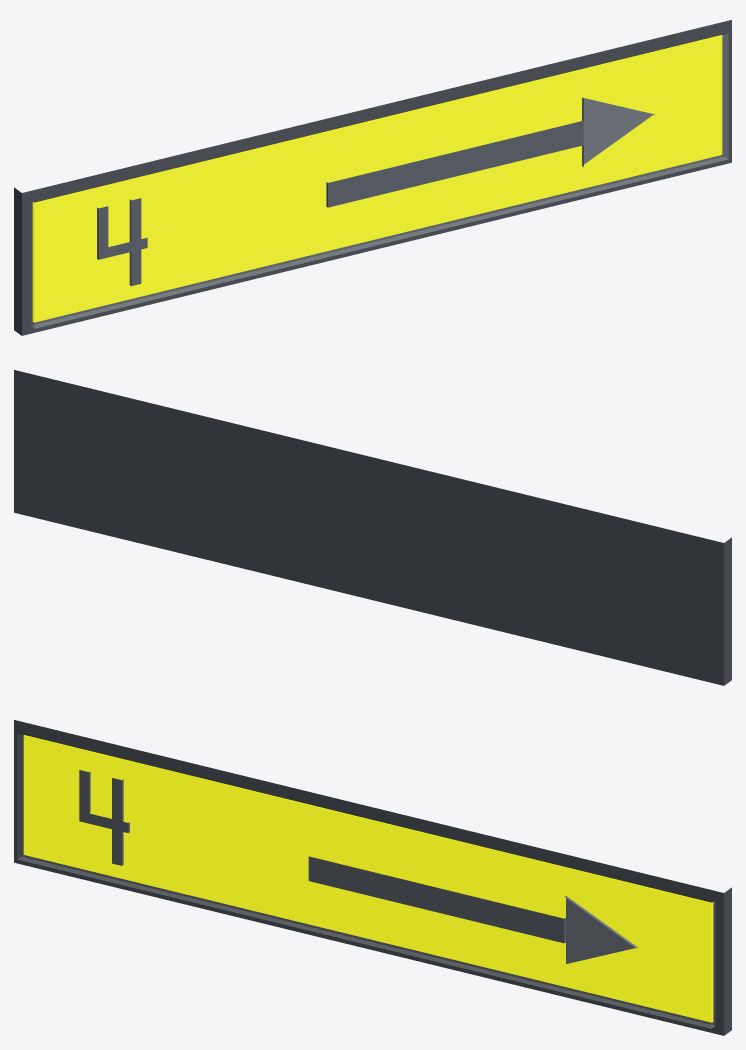
Rendered from ext_sector4_sign_02.glb.
The picture shows the model from 3 angles, top to bottom: view 1: azimuth 30°, elevation 25°; view 2: azimuth 150°, elevation 25°; view 3: azimuth 330°, elevation 25°; orthographic projection.
Parts seen in each view (by area): view 1: Glass_Face, Backlight, Tray, Chevrons, Glyph_4; view 2: Tray; view 3: Glass_Face, Backlight, Tray, Chevrons, Glyph_4.
Boxes of the visible parts, <box> form: Glass_Face: <box>31,34,728,328</box>; Backlight: <box>32,35,722,322</box>; Tray: <box>14,20,731,335</box>; Chevrons: <box>326,97,654,207</box>; Glyph_4: <box>97,198,147,285</box>; Tray: <box>14,370,731,685</box>; Glass_Face: <box>17,734,714,1028</box>; Backlight: <box>23,735,713,1022</box>; Tray: <box>14,720,731,1035</box>; Chevrons: <box>308,856,637,963</box>; Glyph_4: <box>79,770,129,865</box>.
Bounding box in the file's own units: 2.6 × 0.5 × 0.086.
